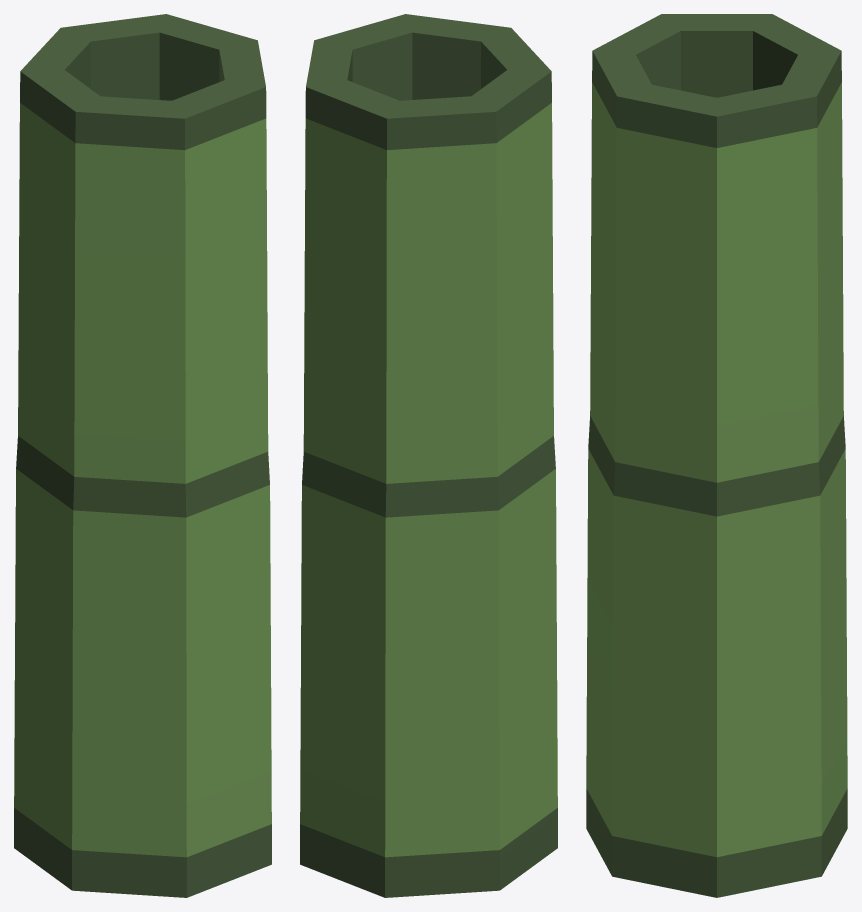
File: Bamboo_Crop.glb
3 views of the same model, side by side, from view 1: azimuth 30°, elevation 25°; view 2: azimuth 150°, elevation 25°; view 3: azimuth 270°, elevation 25° (orthographic).
Parts seen in each view (by area): view 1: Bamboo_Crop_Cylinder.007; view 2: Bamboo_Crop_Cylinder.007; view 3: Bamboo_Crop_Cylinder.007.
Part boxes in pixels (x1,y1,x2,y2): Bamboo_Crop_Cylinder.007: (14,14,271,897); Bamboo_Crop_Cylinder.007: (300,14,557,897); Bamboo_Crop_Cylinder.007: (586,14,847,897).
Bounding box in the file's own units: 0.0968 × 0.3264 × 0.0993.
